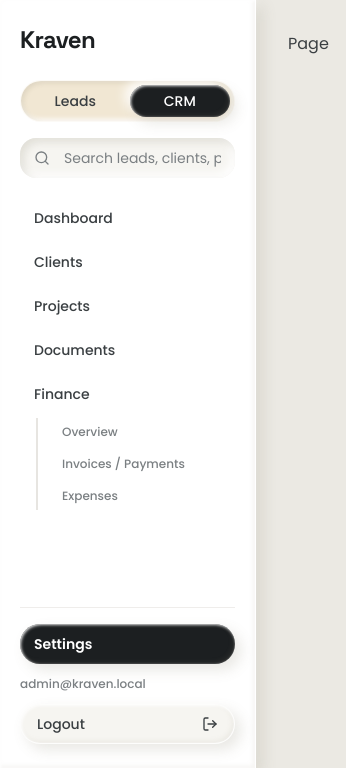
AppShell › keeps the last-used workspace on shared pages and switches via the toggle
Expected: the link "Clients" is shown, [34,252,83,272]
Click the button "Leads" at (75, 101), box [25,85,126,117]
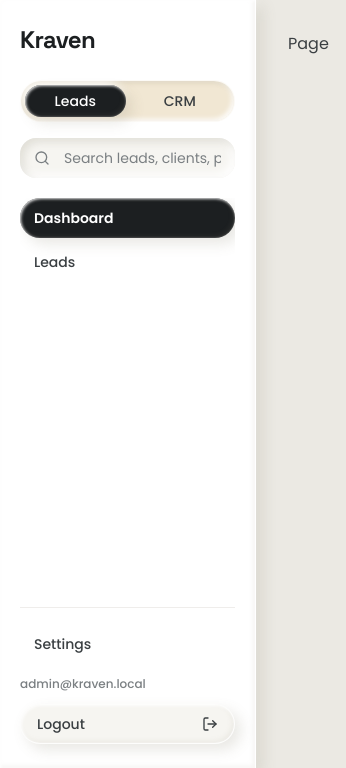
Now the link "Leads" is shown, box [34,252,75,272]
